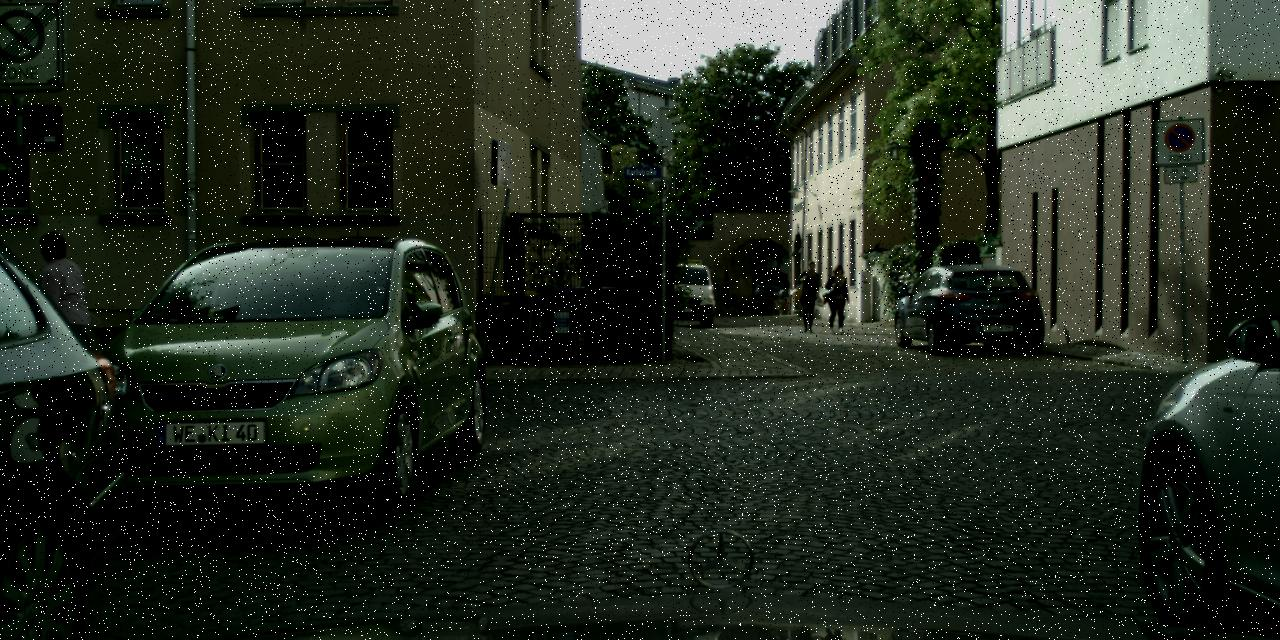ped: (23, 231, 96, 410), (796, 260, 824, 331), (823, 264, 851, 332)
